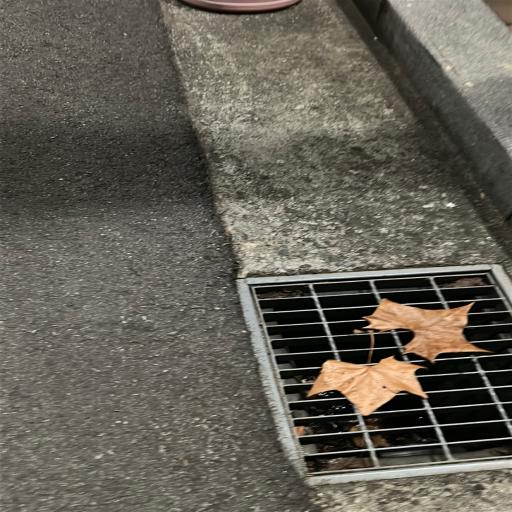debris: (307, 298, 485, 415), (326, 457, 373, 468), (448, 277, 479, 287), (373, 435, 389, 446), (484, 449, 507, 455), (298, 426, 312, 435), (261, 293, 287, 297), (354, 437, 365, 446), (367, 420, 378, 429)
drain: (258, 273, 511, 470)
